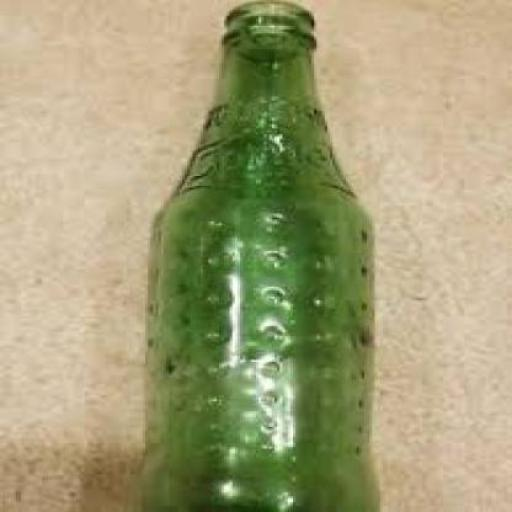glass: (144, 0, 373, 511)
